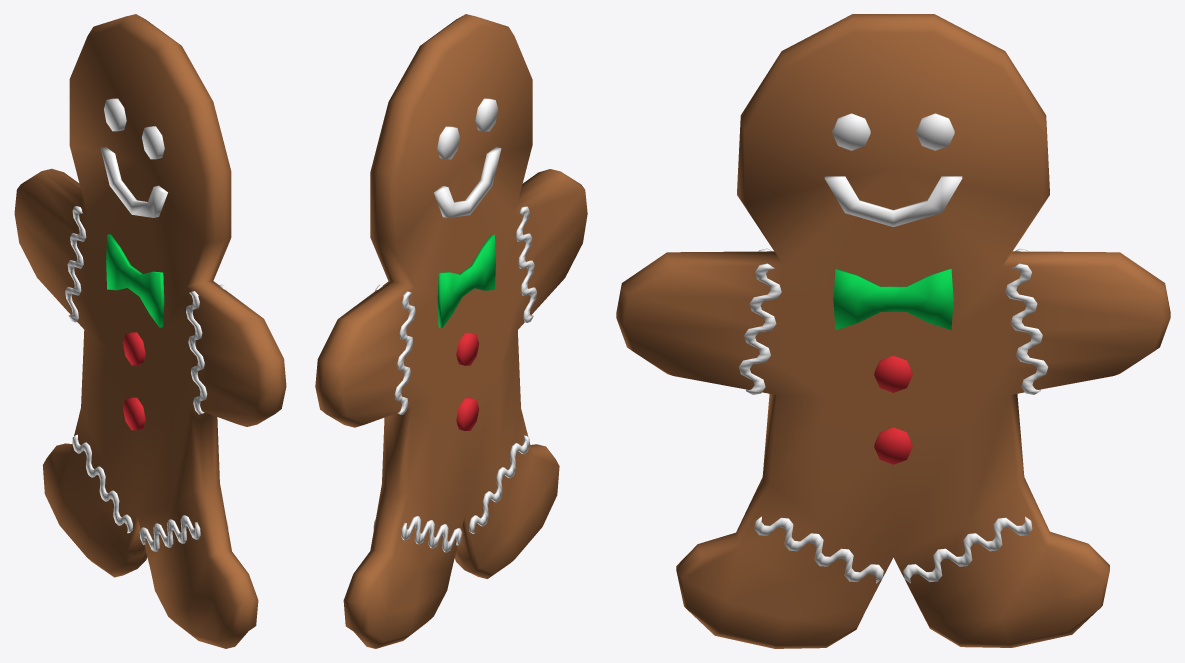
Rendered from gingerbread.fbx.
3 views of the same model, side by side, from view 1: azimuth 30°, elevation 25°; view 2: azimuth 150°, elevation 25°; view 3: azimuth 270°, elevation 25° (orthographic). The views are drawn at different scales.
Visible parts, largest first — view 1: gingerbreadMan; view 2: gingerbreadMan; view 3: gingerbreadMan.
Part boxes in pixels (box(x1,y1,x2,y2)): gingerbreadMan: box(14, 14, 286, 648); gingerbreadMan: box(315, 14, 587, 648); gingerbreadMan: box(616, 14, 1170, 648).
Size of the model in its own units: 6.72 by 97.77 by 78.
